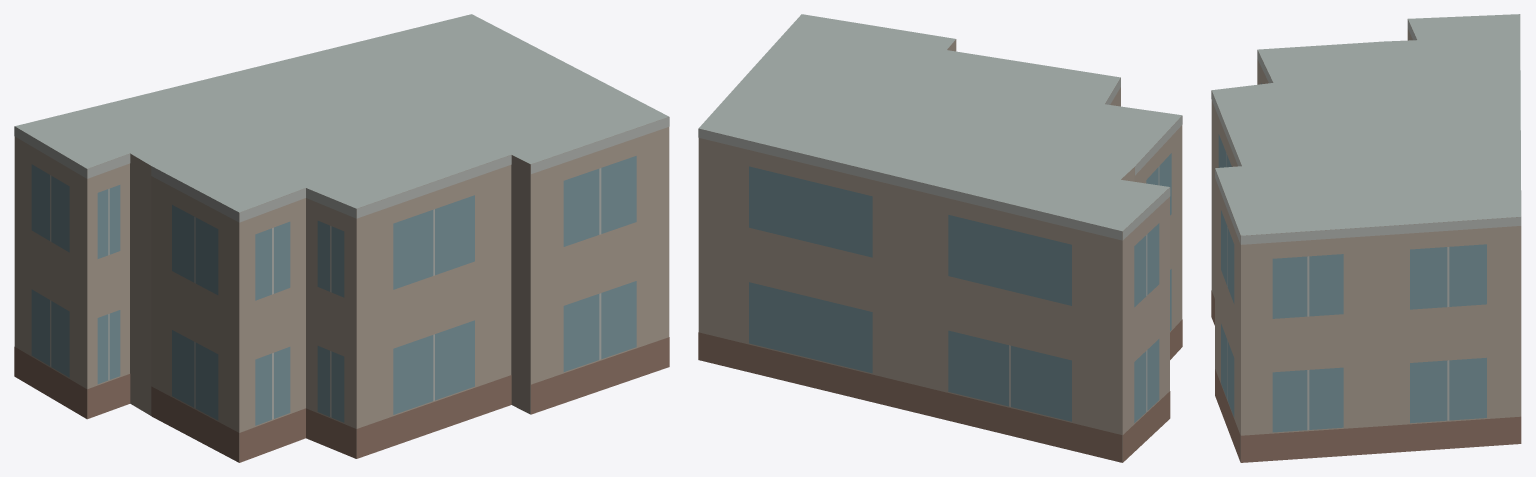
The model's file is survey-upis-32734795.glb.
The picture shows the model from 3 angles, left to right: view 1: azimuth 30°, elevation 25°; view 2: azimuth 150°, elevation 25°; view 3: azimuth 270°, elevation 25°; orthographic projection. The views are drawn at different scales.
Parts seen in each view (by area): view 1: survey-upis-32734795.tmp; view 2: survey-upis-32734795.tmp; view 3: survey-upis-32734795.tmp.
Part boxes in pixels (box(x1,y1,x2,y2)): survey-upis-32734795.tmp: box(14, 14, 669, 462); survey-upis-32734795.tmp: box(698, 14, 1182, 462); survey-upis-32734795.tmp: box(1211, 14, 1521, 462).
Bounding box in the file's own units: 12.79 × 6.1 × 7.55.
